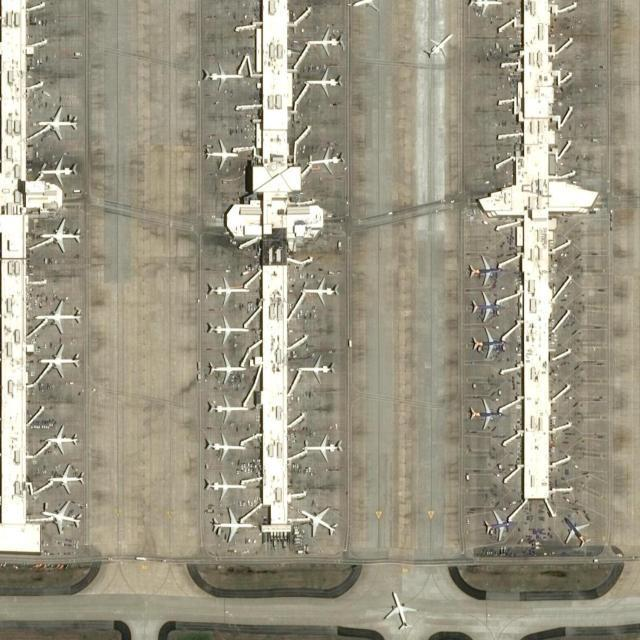Aircraft: (35, 298, 82, 335), (37, 340, 80, 379), (211, 505, 255, 543), (204, 271, 250, 305), (36, 103, 78, 140), (380, 588, 417, 630), (39, 216, 81, 252), (204, 312, 249, 344), (40, 500, 82, 534), (298, 504, 340, 538), (299, 429, 343, 461), (199, 61, 244, 92), (205, 351, 247, 384), (303, 65, 343, 99), (36, 155, 78, 187), (305, 25, 347, 57), (203, 430, 247, 460), (46, 462, 86, 495), (206, 392, 248, 423), (466, 251, 502, 287), (467, 394, 503, 430), (42, 422, 80, 456), (305, 145, 347, 175), (203, 469, 245, 499), (295, 352, 333, 385), (203, 135, 239, 169), (471, 326, 507, 360), (301, 274, 340, 305), (469, 288, 504, 322), (482, 507, 515, 541), (561, 514, 593, 546), (423, 30, 453, 60), (465, 0, 501, 17), (350, 0, 389, 12)
